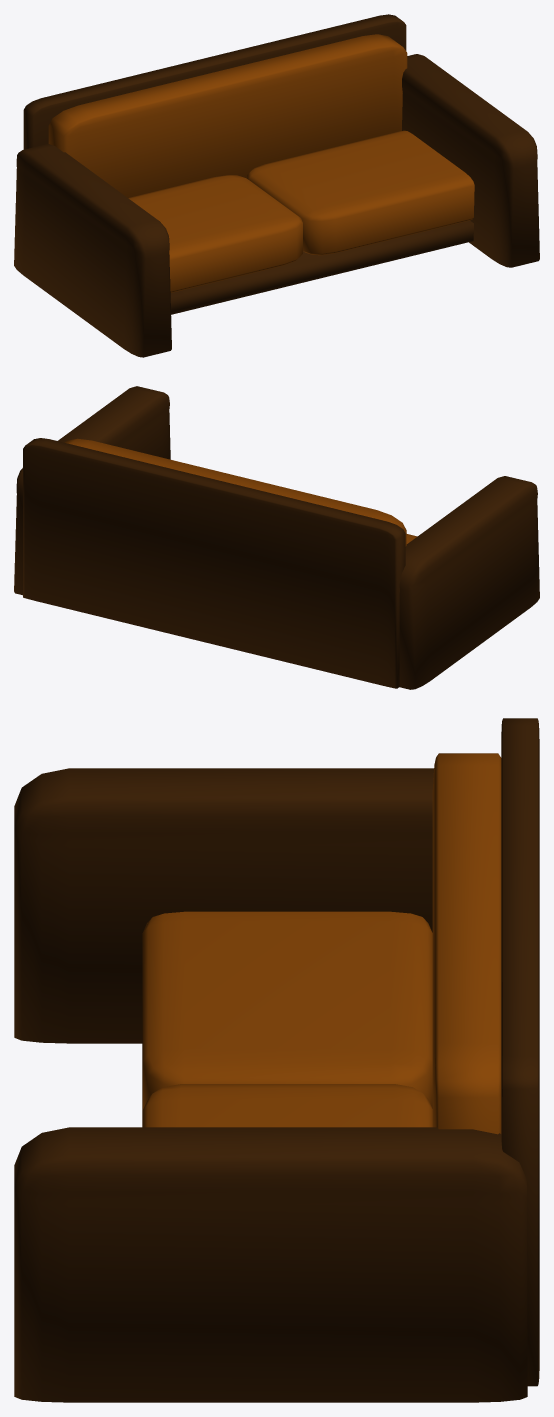
File: Sofa.fbx
3 renders of one model, top to bottom at view 1: azimuth 30°, elevation 25°; view 2: azimuth 150°, elevation 25°; view 3: azimuth 270°, elevation 25°, orthographic. The views are drawn at different scales.
Visible parts, largest first — view 1: Sofa; view 2: Sofa; view 3: Sofa.
Boxes of the visible parts, x1,y1,x2,y2 form: Sofa: [14, 14, 539, 357]; Sofa: [14, 386, 539, 689]; Sofa: [14, 718, 539, 1402].
Bounding box in the file's own units: 262 × 96.55 × 147.
